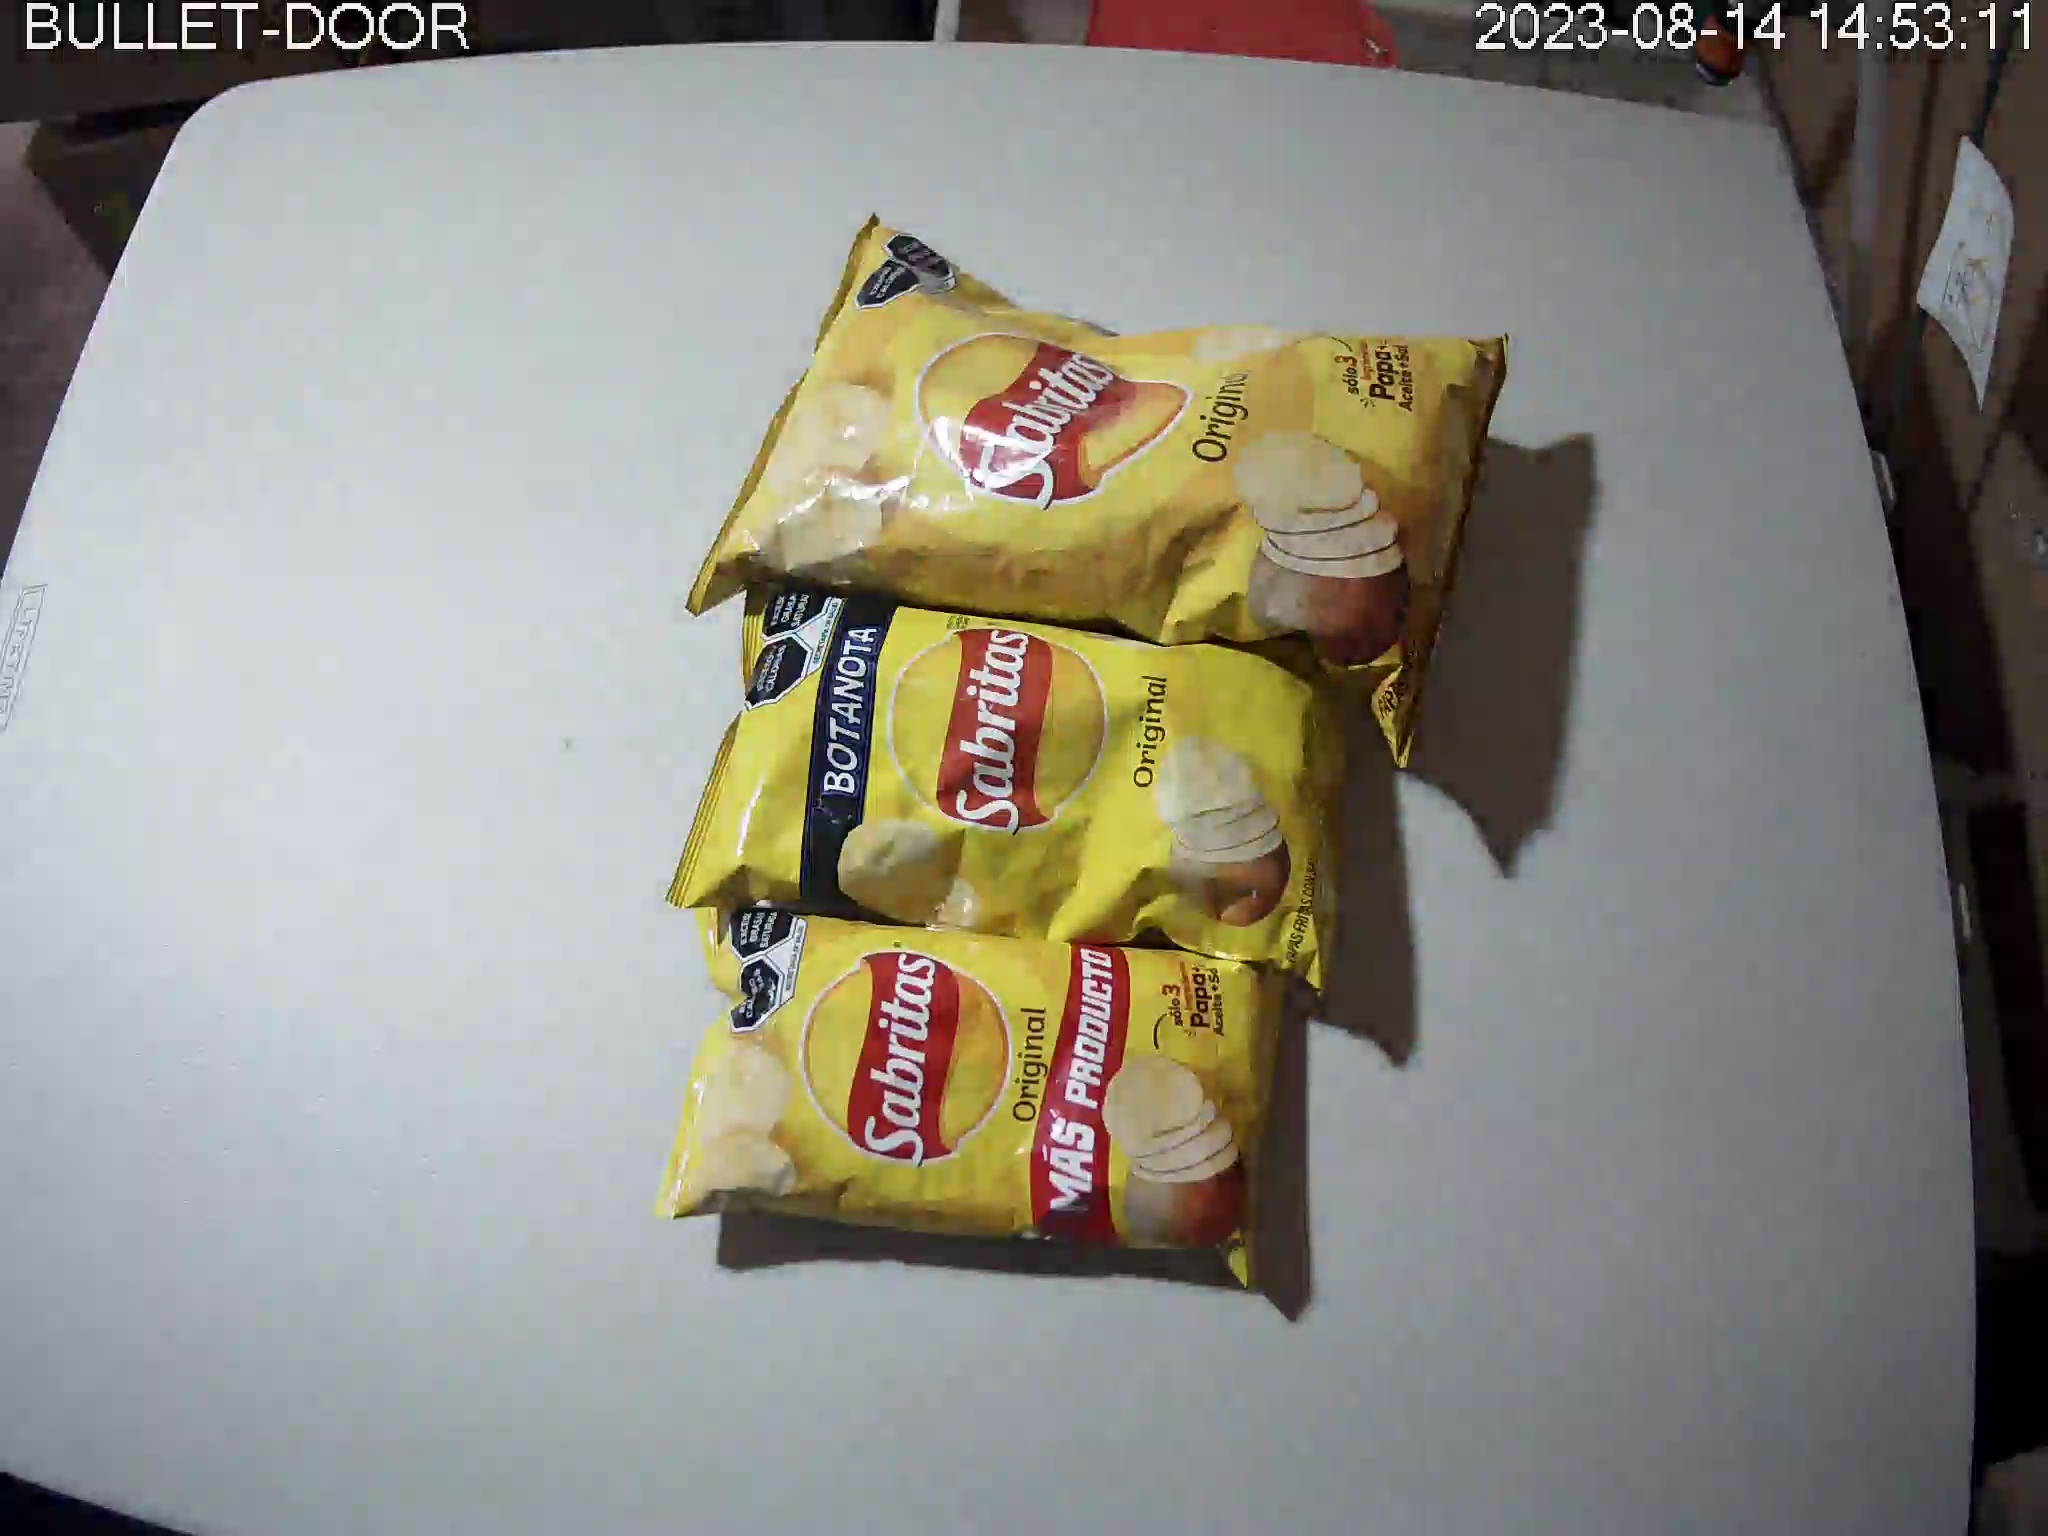Sabritas_160_F: (684, 210, 1522, 773)
Sabritas_45_F: (656, 894, 1290, 1291)
Sabritas_64_F: (664, 565, 1353, 1002)
